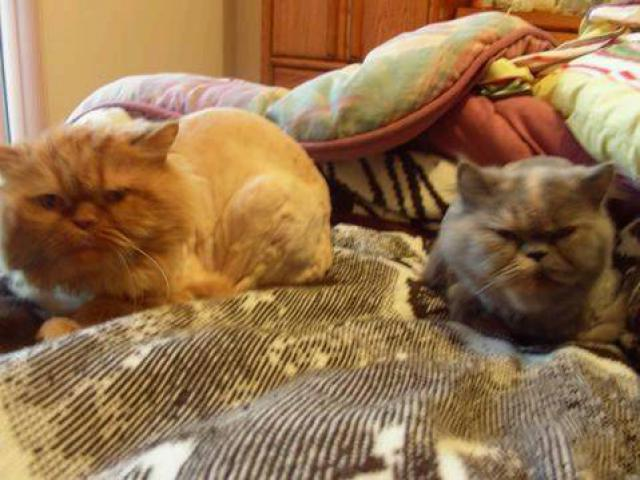cat: (5, 108, 334, 345), (411, 154, 630, 356)
